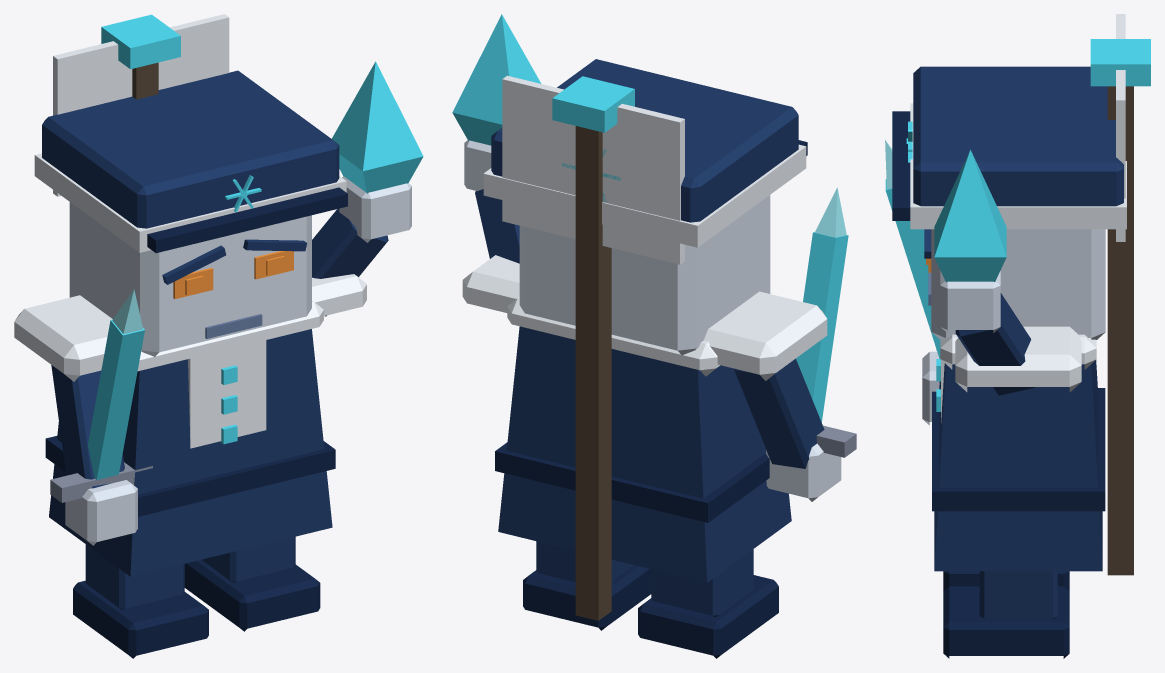
The model's file is r2_mini_frost_commander.glb.
3 renders of one model, left to right at view 1: azimuth 30°, elevation 25°; view 2: azimuth 150°, elevation 25°; view 3: azimuth 270°, elevation 25°, orthographic. The views are drawn at different scales.
Visible parts, largest first — view 1: r2_mini_frost_commander_mesh; view 2: r2_mini_frost_commander_mesh; view 3: r2_mini_frost_commander_mesh.
Part boxes in pixels (box(x1,y1,x2,y2)): r2_mini_frost_commander_mesh: box(14, 14, 423, 658); r2_mini_frost_commander_mesh: box(452, 14, 856, 658); r2_mini_frost_commander_mesh: box(885, 14, 1150, 658).
Size of the model in its own units: 3.1 by 4.5 by 1.93.
Materials: 1 (1 with a texture image).
